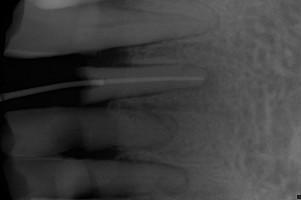Furcation Involvement: (191, 66, 216, 89)
